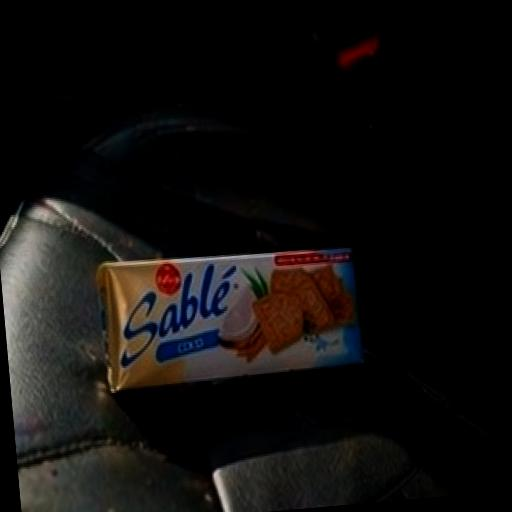sabl: (30, 157, 439, 458)
